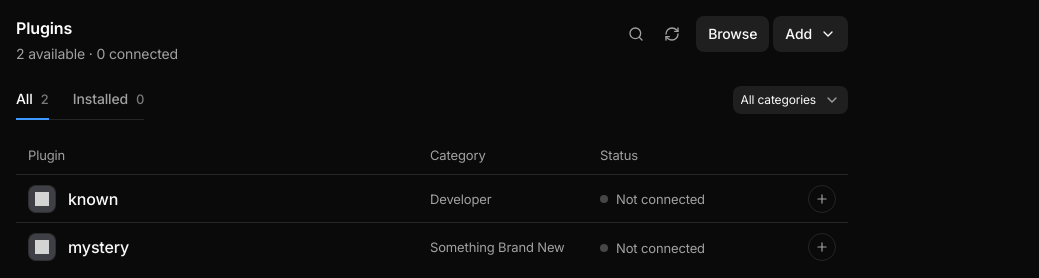
Scenario: PluginsView category sections are data-driven › renders a category the frontend has never heard of instead of crashing
Expected: the row "mystery" is shown, [28,233,836,261]
Expected: the text "Something Brand New" is shown, [430,239,565,255]
The category menu is fed by the same data, so it offers the new one too.
Click the dropdown named "Category": (790, 100) [732,86,848,114]
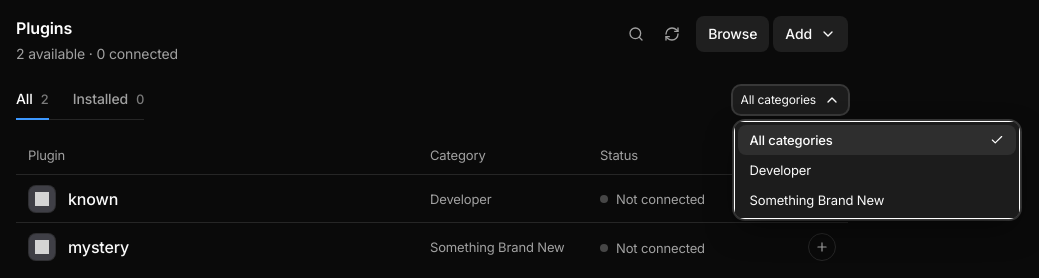
Expected: the option "Something Brand New" is shown, [750,192,884,208]
